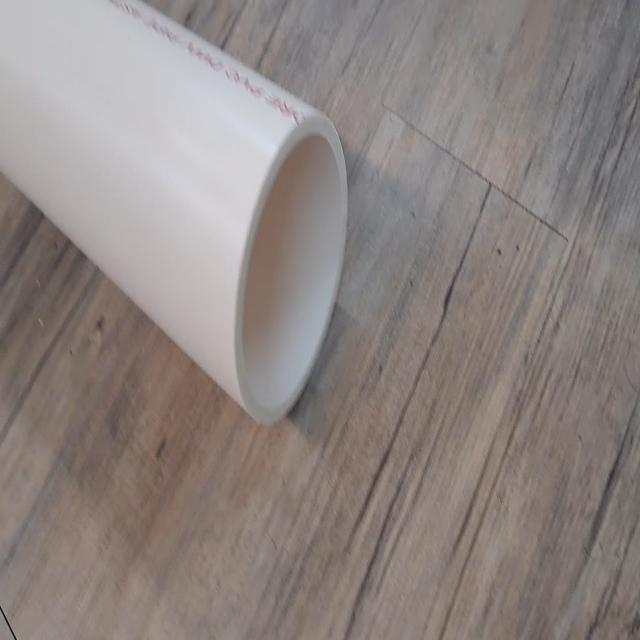CORAL: (0, 0, 358, 442)
